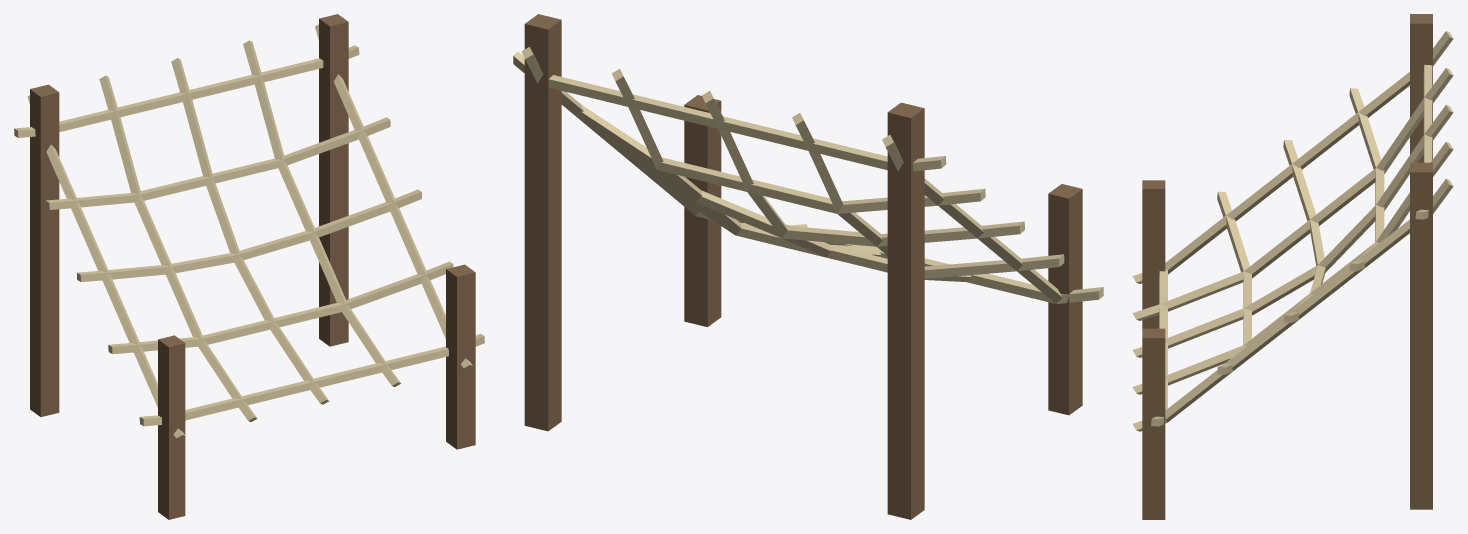
File: Fishing_Net.fbx
The picture shows the model from 3 angles, left to right: view 1: azimuth 30°, elevation 25°; view 2: azimuth 150°, elevation 25°; view 3: azimuth 270°, elevation 25°; orthographic projection. The views are drawn at different scales.
Parts seen in each view (by area): view 1: Fishing_Net; view 2: Fishing_Net; view 3: Fishing_Net.
Part boxes in pixels (x1,y1,x2,y2): Fishing_Net: (14,14,484,519); Fishing_Net: (513,14,1103,519); Fishing_Net: (1132,14,1453,519).
Bounding box in the file's own units: 144 × 133 × 112.
Materials: 1 (1 with a texture image).
